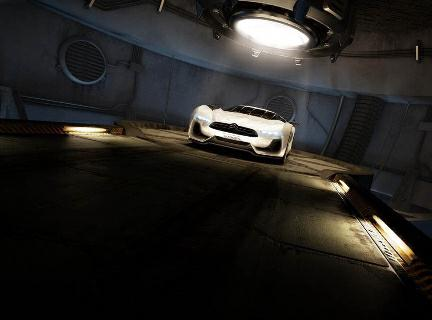雪铁龙-GT: (182, 91, 306, 167)
